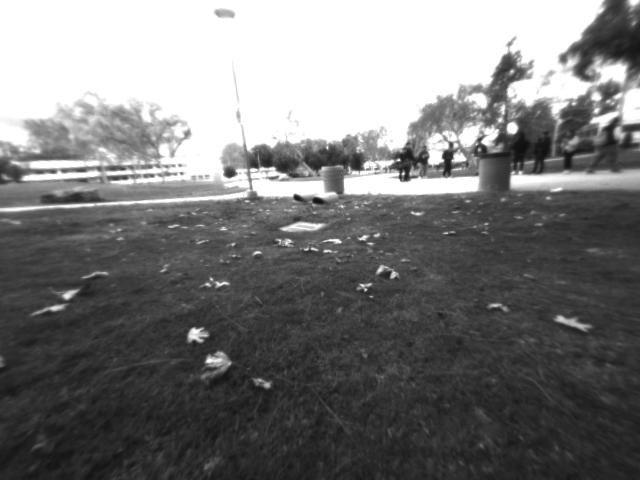trashcan: (474, 147, 517, 195), (317, 157, 348, 196)
